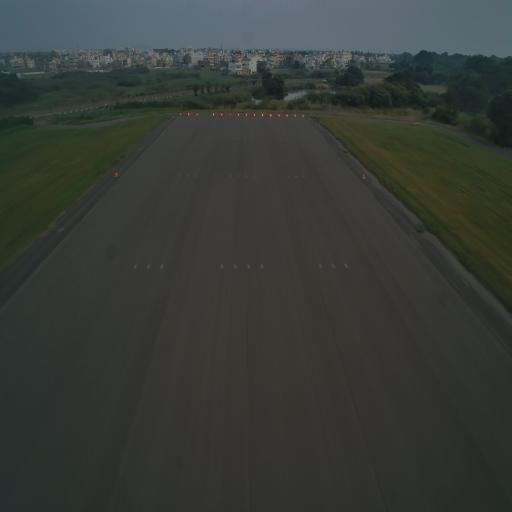off: (145, 260, 152, 274), (259, 259, 265, 272), (245, 260, 252, 271), (158, 260, 164, 272), (218, 261, 224, 273), (232, 262, 239, 272), (342, 261, 349, 271), (330, 261, 336, 271), (132, 262, 138, 271), (317, 261, 323, 270), (301, 173, 307, 180), (186, 173, 190, 180), (228, 172, 232, 179), (252, 173, 256, 180), (294, 173, 298, 180), (192, 172, 196, 178), (236, 173, 240, 179), (244, 174, 248, 180), (287, 173, 290, 180), (177, 174, 181, 178)
on: (114, 170, 119, 178), (362, 172, 366, 181)
